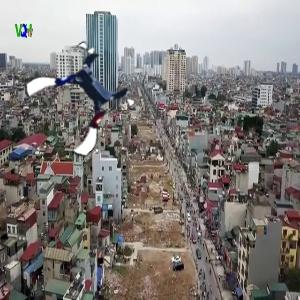drone: (34, 52, 133, 151)
